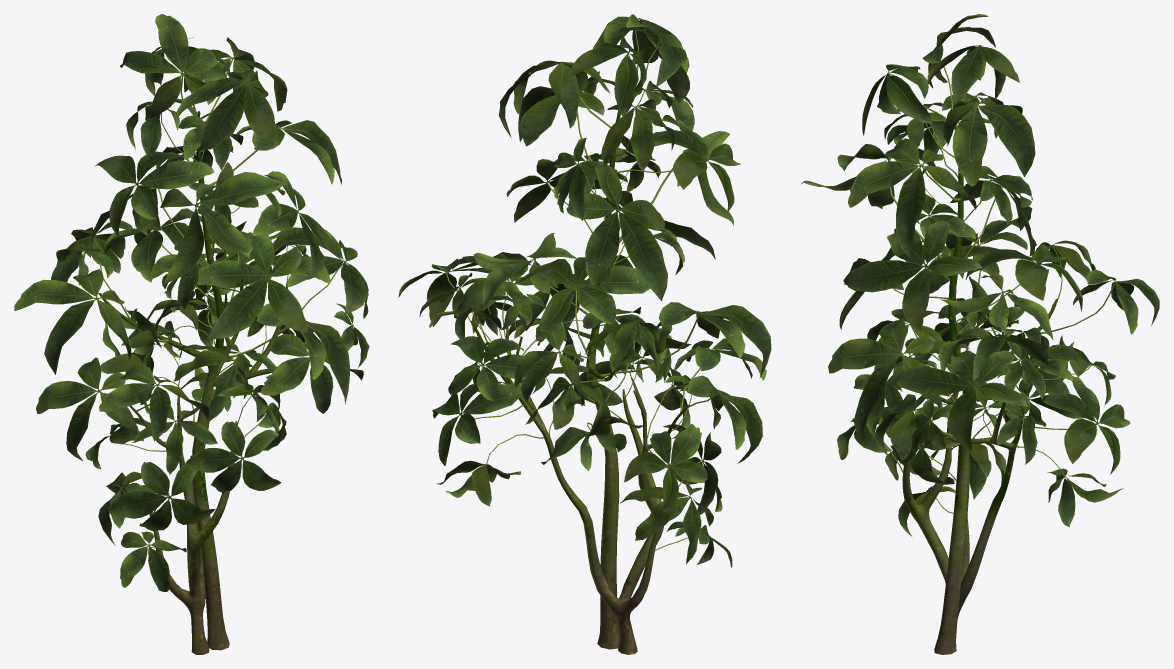
The model's file is pachira_aquatica_01_d.gltf.
3 views of the same model, side by side, from view 1: azimuth 30°, elevation 25°; view 2: azimuth 150°, elevation 25°; view 3: azimuth 270°, elevation 25° (orthographic). The views are drawn at different scales.
Visible parts, largest first — view 1: pachira_aquatica_01_leaves_d, pachira_aquatica_01_bark_d; view 2: pachira_aquatica_01_leaves_d, pachira_aquatica_01_bark_d; view 3: pachira_aquatica_01_leaves_d, pachira_aquatica_01_bark_d.
Boxes of the visible parts, <box> form: pachira_aquatica_01_leaves_d: <box>14,14,369,591</box>; pachira_aquatica_01_bark_d: <box>99,111,287,654</box>; pachira_aquatica_01_leaves_d: <box>398,14,771,567</box>; pachira_aquatica_01_bark_d: <box>471,112,689,654</box>; pachira_aquatica_01_leaves_d: <box>801,14,1159,536</box>; pachira_aquatica_01_bark_d: <box>902,126,1057,654</box>.
Size of the model in its own units: 1.05 by 1.9 by 0.997.
Materials: 2 (2 with a texture image).
